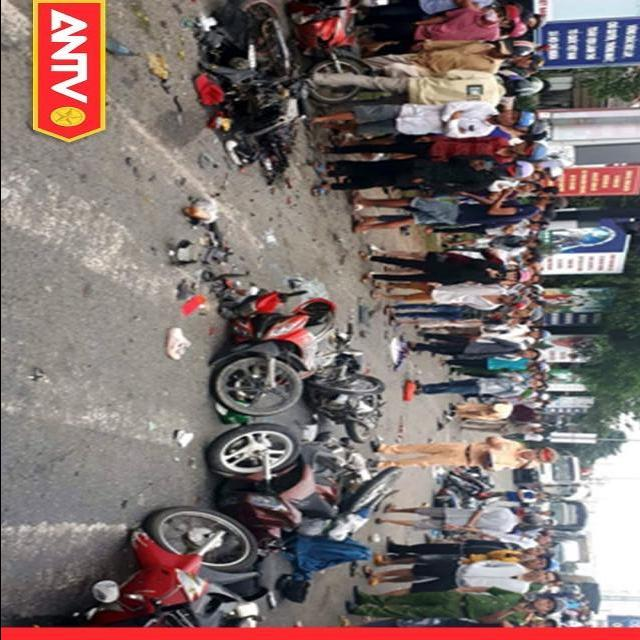accident: (97, 278, 435, 640), (198, 0, 418, 173)
